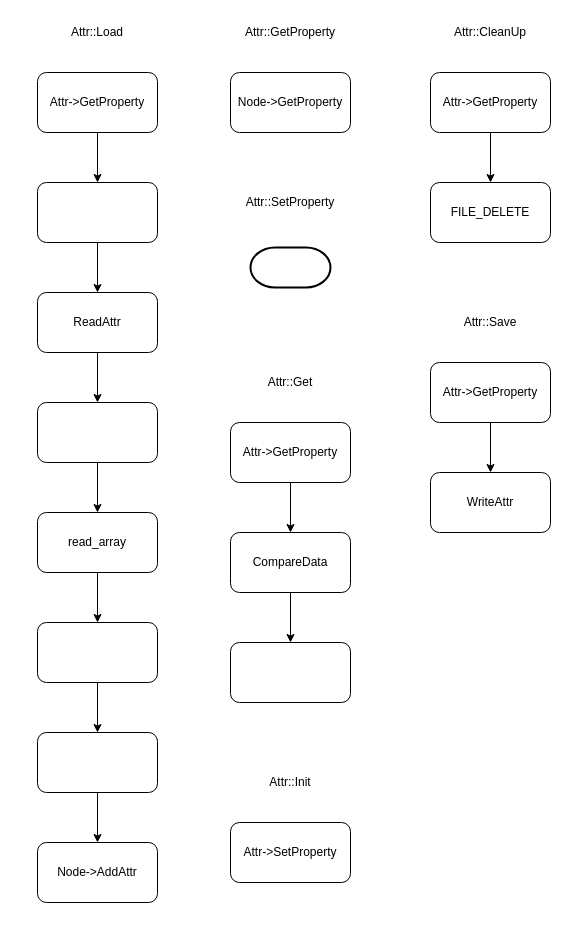
This 588x945 diagram has some shape labels left out. The centre of each missing label's shape, as x and y in pixels:
"Attr->Load" belongs at point 290,672.
"FormatIsAscii" belongs at point 97,212.
"GetArrayDescName" belongs at point 97,762.
"Node->GetArrayInfo" belongs at point 97,432.
"Node->ReplaceAttrValues" belongs at point 97,652.
